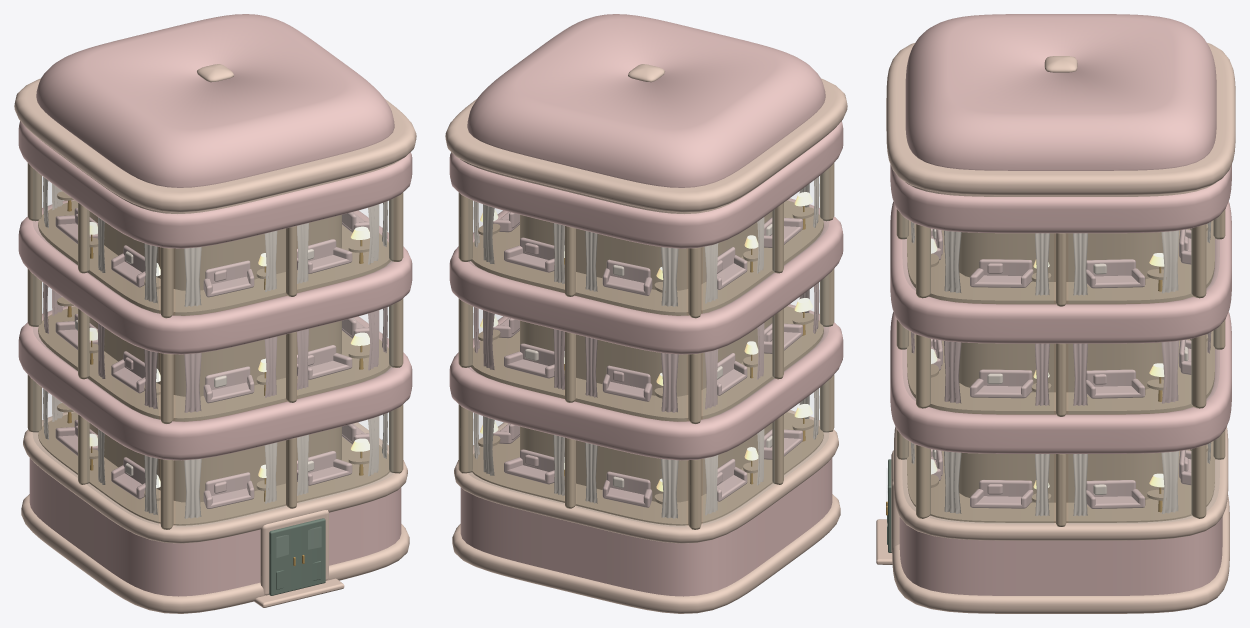
Rendered from central-square-toy-v70.glb.
3 views of the same model, side by side, from view 1: azimuth 30°, elevation 25°; view 2: azimuth 150°, elevation 25°; view 3: azimuth 270°, elevation 25° (orthographic). The views are drawn at different scales.
Parts seen in each view (by area): view 1: arch59_blush, room59_glass_sage, room59_warm_backing, arch59_pillow_trim, room59_curtain_blush, arch59_champagne_frame, room59_curtain_ivory, Sage painted joinery, room59_lamp_glow, Brushed brass; view 2: arch59_blush, room59_glass_sage, room59_warm_backing, arch59_pillow_trim, room59_curtain_blush, arch59_champagne_frame, room59_curtain_ivory, room59_lamp_glow; view 3: arch59_blush, room59_glass_sage, room59_warm_backing, arch59_pillow_trim, room59_curtain_blush, arch59_champagne_frame, room59_curtain_ivory, room59_lamp_glow.
Part boxes in pixels (x1,y1,x2,y2): arch59_blush: (18, 14, 412, 596); room59_glass_sage: (33, 169, 392, 557); room59_warm_backing: (38, 191, 390, 525); arch59_pillow_trim: (14, 64, 416, 613); room59_curtain_blush: (43, 208, 387, 508); arch59_champagne_frame: (27, 163, 403, 529); room59_curtain_ivory: (43, 177, 387, 518); Sage painted joinery: (269, 518, 325, 595); room59_lamp_glow: (89, 222, 369, 488); Brushed brass: (67, 200, 363, 566); arch59_blush: (449, 14, 843, 596); room59_glass_sage: (469, 169, 828, 526); room59_warm_backing: (471, 200, 823, 525); arch59_pillow_trim: (445, 64, 847, 613); room59_curtain_blush: (473, 212, 819, 507); arch59_champagne_frame: (458, 163, 834, 529); room59_curtain_ivory: (473, 177, 819, 518); room59_lamp_glow: (480, 192, 812, 491); arch59_blush: (890, 14, 1231, 595); room59_glass_sage: (887, 216, 1219, 523); room59_warm_backing: (907, 220, 1214, 522); arch59_pillow_trim: (876, 43, 1235, 613); room59_curtain_blush: (911, 228, 1211, 508); arch59_champagne_frame: (896, 209, 1225, 526); room59_curtain_ivory: (911, 221, 1211, 516); room59_lamp_glow: (931, 238, 1164, 489).
Bounding box in the file's own units: 9.38 × 14.4 × 9.66.
